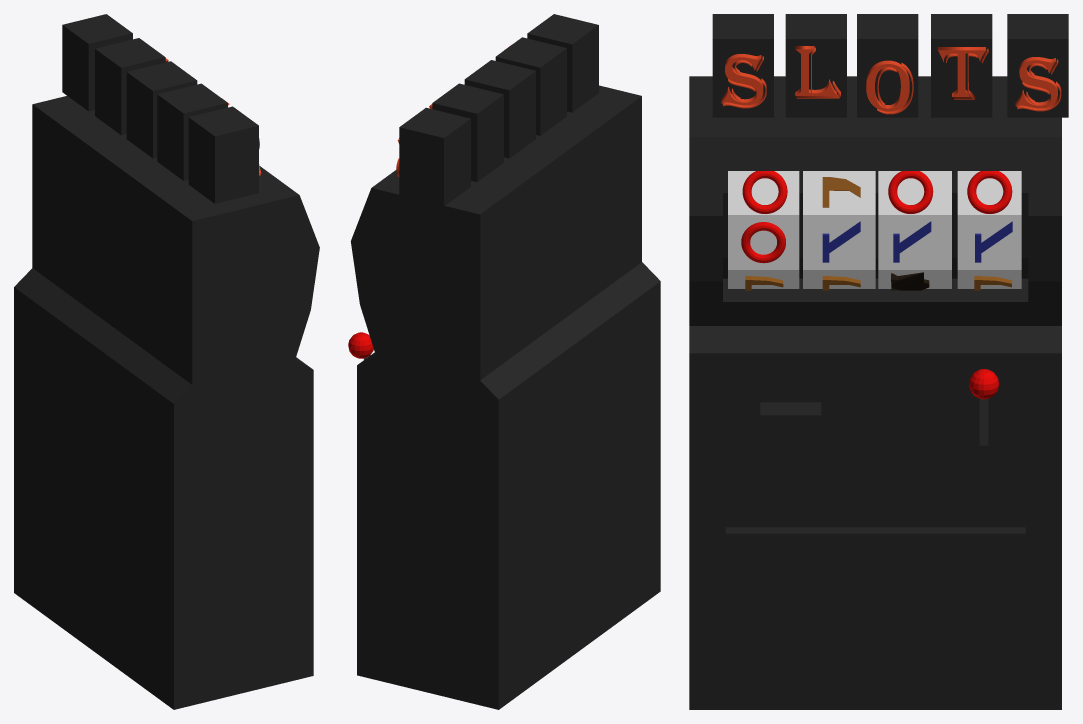
File: SlotMachine.fbx
3 views of the same model, side by side, from view 1: azimuth 30°, elevation 25°; view 2: azimuth 150°, elevation 25°; view 3: azimuth 270°, elevation 25° (orthographic). The views are drawn at different scales.
Visible parts, largest first — view 1: Cube.001; view 2: Cube.001; view 3: Cube.001.
Boxes of the visible parts, x1,y1,x2,y2 form: Cube.001: (14,14,319,709); Cube.001: (348,14,660,709); Cube.001: (689,14,1068,709).
Bounding box in the file's own units: 258 × 757 × 403.
